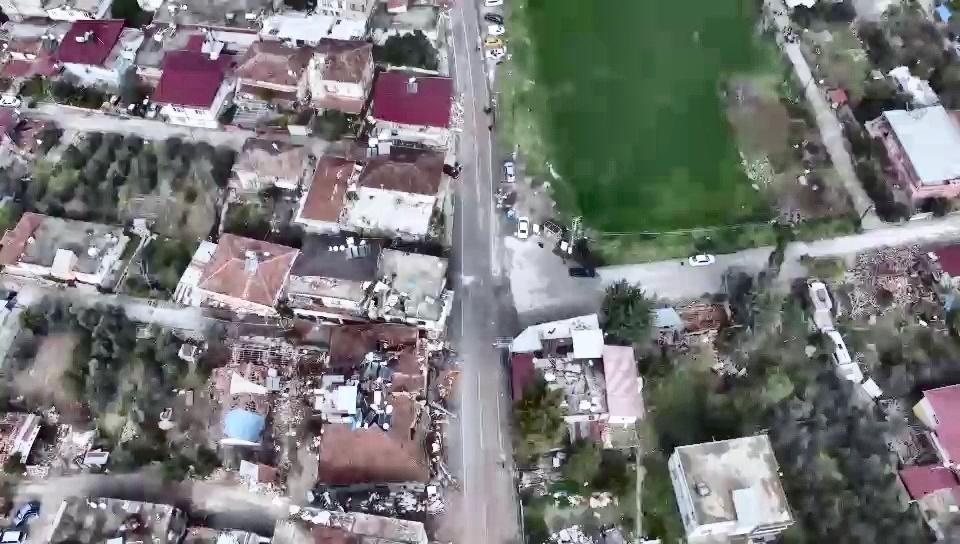kapali: (242, 490, 462, 543), (175, 303, 319, 347), (318, 324, 464, 364)
